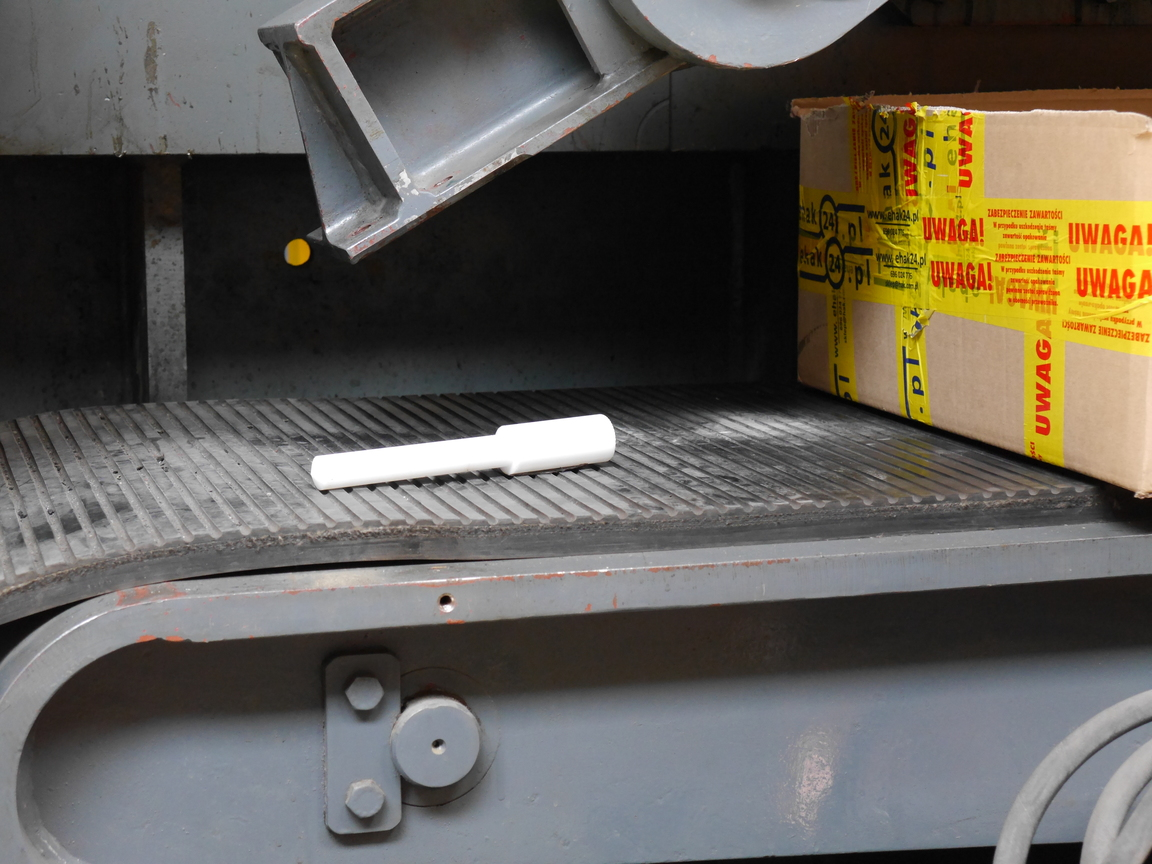cargo_g: (310, 413, 617, 491)
